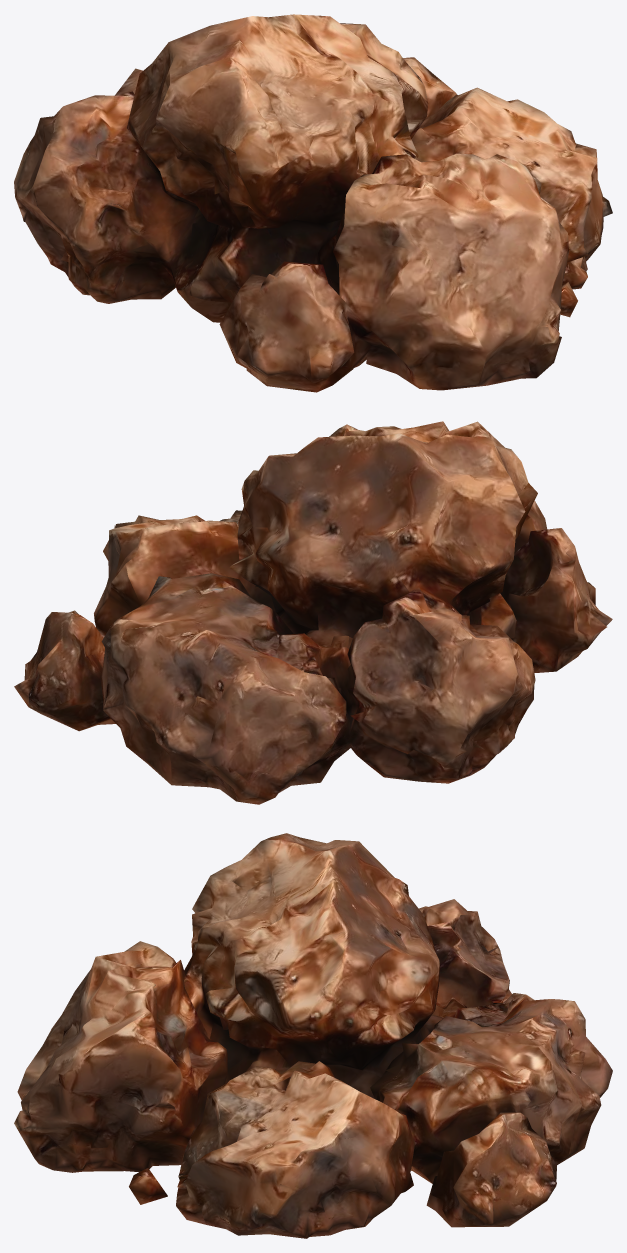
Rendered from qr_ore3.glb.
3 views of the same model, one above another, from view 1: azimuth 30°, elevation 25°; view 2: azimuth 150°, elevation 25°; view 3: azimuth 270°, elevation 25° (orthographic). The views are drawn at different scales.
Parts seen in each view (by area): view 1: tripo_node_81829418-bd2b-4e6f-9ca6-e3d2d1413108; view 2: tripo_node_81829418-bd2b-4e6f-9ca6-e3d2d1413108; view 3: tripo_node_81829418-bd2b-4e6f-9ca6-e3d2d1413108.
Part boxes in pixels (<box>): tripo_node_81829418-bd2b-4e6f-9ca6-e3d2d1413108: <box>14,14,612,392</box>; tripo_node_81829418-bd2b-4e6f-9ca6-e3d2d1413108: <box>14,421,612,804</box>; tripo_node_81829418-bd2b-4e6f-9ca6-e3d2d1413108: <box>14,833,612,1238</box>.
Size of the model in its own units: 0.8726 by 0.4737 by 1.
Materials: 1 (1 with a texture image).
